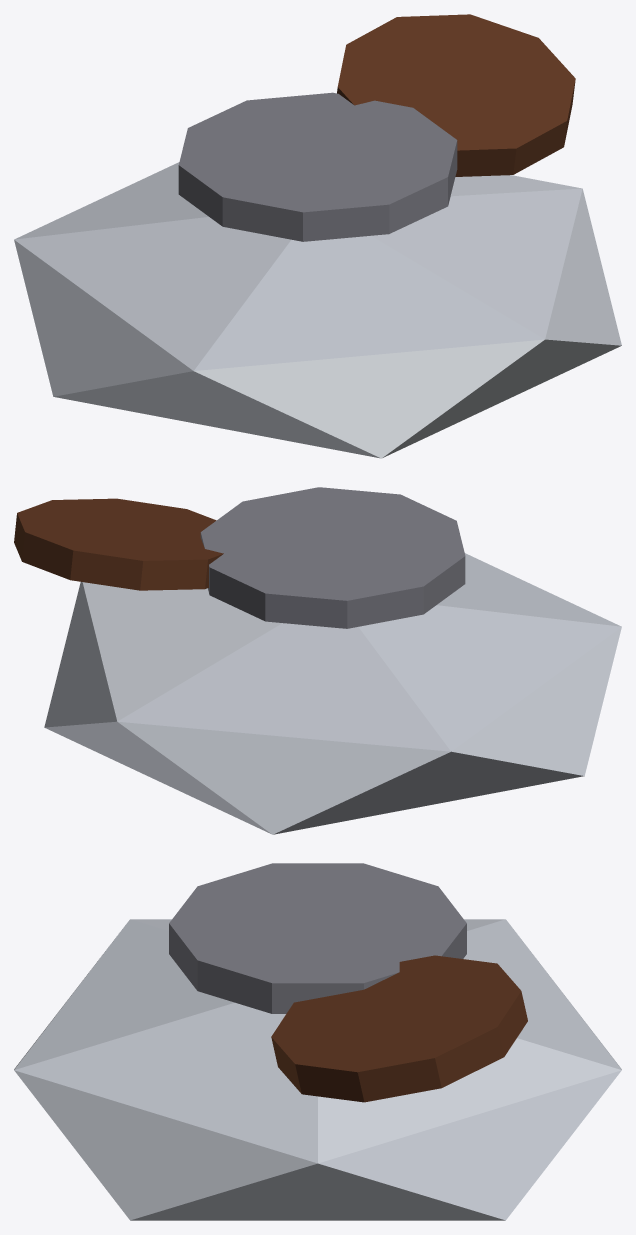
File: village_coin.glb
The picture shows the model from 3 angles, top to bottom: view 1: azimuth 30°, elevation 25°; view 2: azimuth 150°, elevation 25°; view 3: azimuth 270°, elevation 25°; orthographic projection. The views are drawn at different scales.
Visible parts, largest first — view 1: village_coin; view 2: village_coin; view 3: village_coin.
Boxes of the visible parts, x1,y1,x2,y2 form: village_coin: (14,14,621,458); village_coin: (14,487,621,834); village_coin: (14,863,621,1220).
Size of the model in its own units: 0.1537 by 0.0678 by 0.1429.
